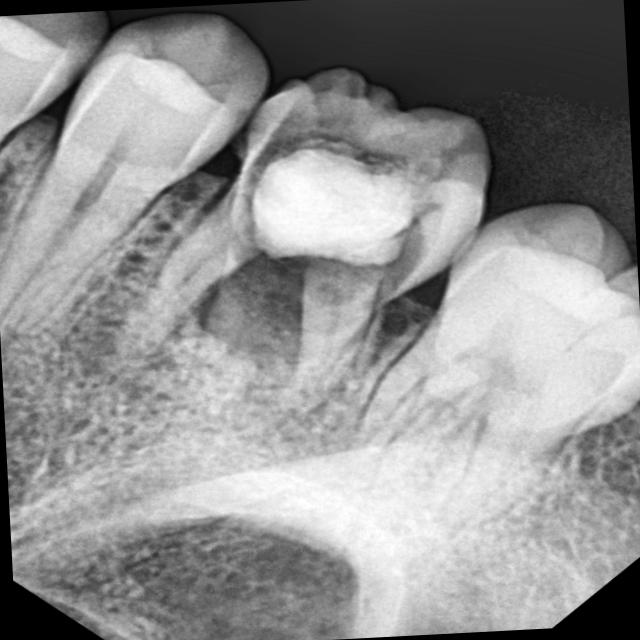Restoration: (211, 112, 467, 289)
